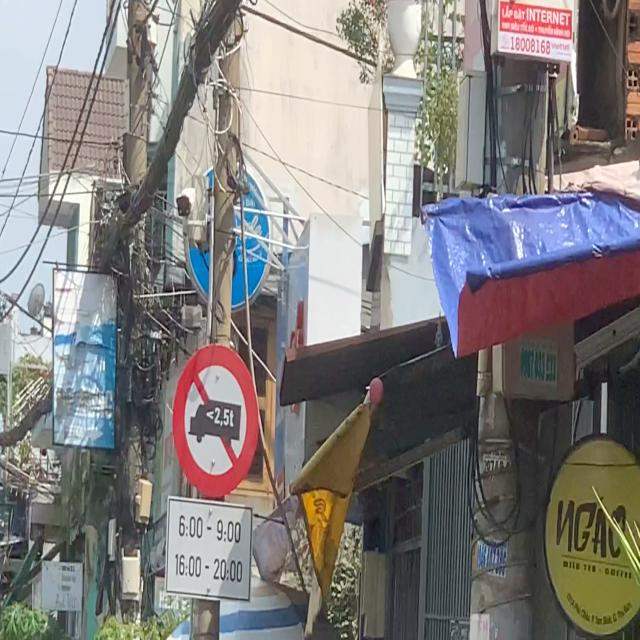Cam con lai: (172, 344, 260, 499)
